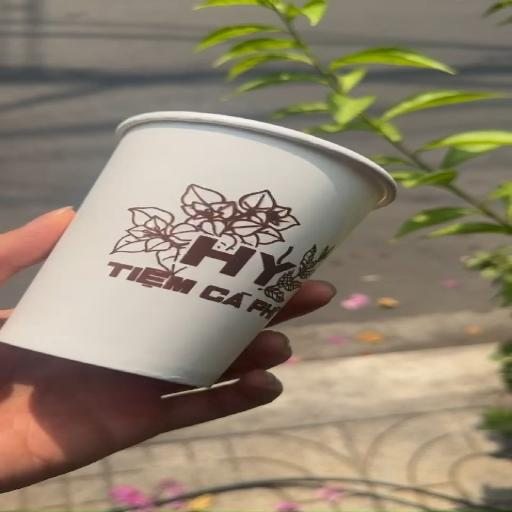Ly_giay: (0, 112, 395, 386)
